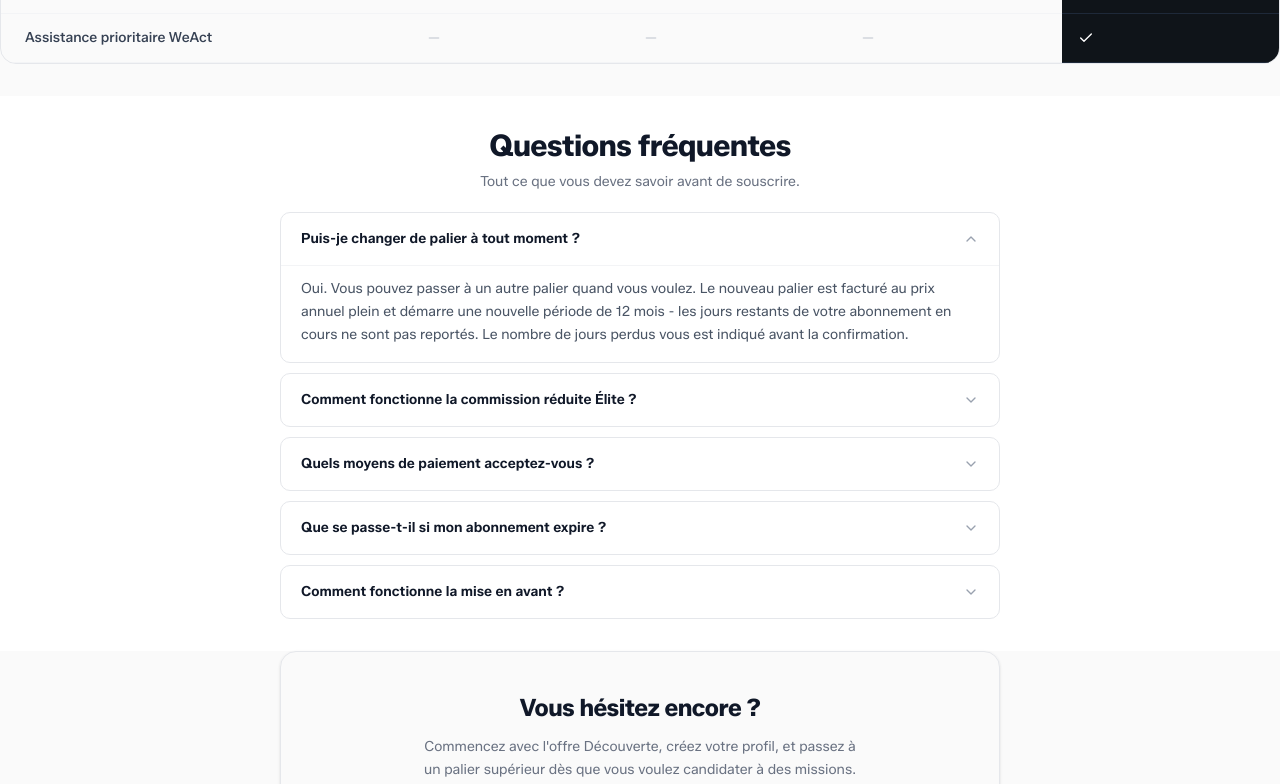
it: PricingView (public /pricing — FP-2.13) › FAQ accordion › closes any previously open FAQ when a different one is opened (exclusive accordion)
(page scrolled)
// Click FAQ #1 — FAQ #0 must auto-close
Click the button with test id "faq-toggle-1": (469, 400) x1=281 y1=374 x2=999 y2=426
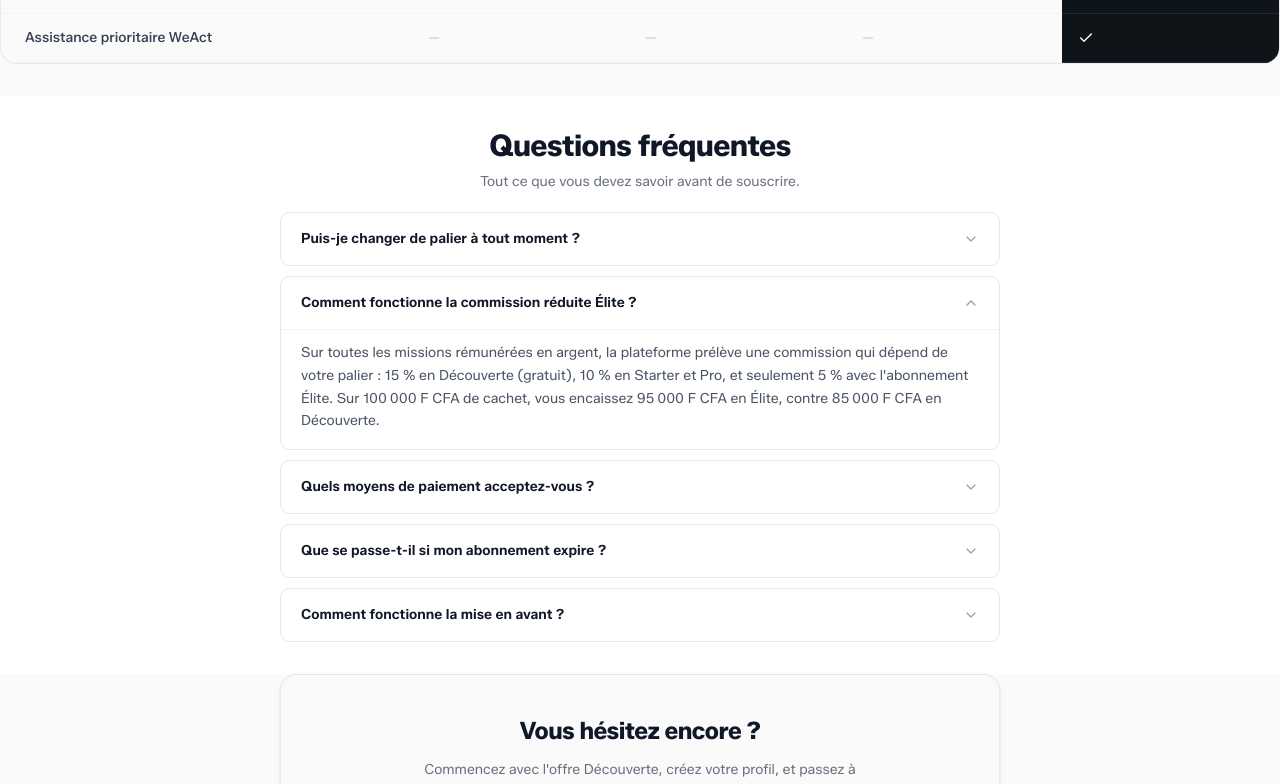
Result: the button with test id "faq-toggle-0" is collapsed at x1=281 y1=213 x2=999 y2=265
Result: the button with test id "faq-toggle-1" is expanded at x1=281 y1=277 x2=999 y2=329
// Click FAQ #2 — FAQ #1 must auto-close
Click the button with test id "faq-toggle-2": (448, 487) x1=281 y1=461 x2=999 y2=513
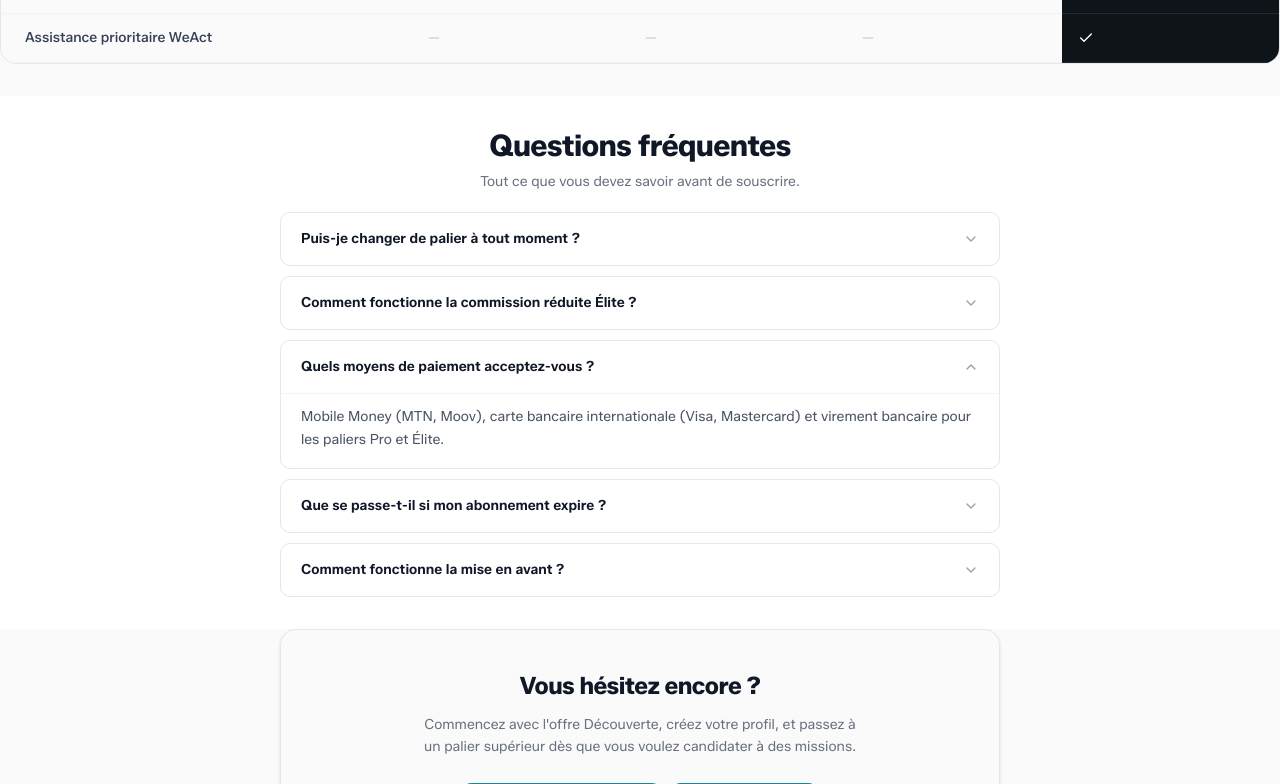
Result: the button with test id "faq-toggle-1" is collapsed at x1=281 y1=277 x2=999 y2=329
Result: the button with test id "faq-toggle-2" is expanded at x1=281 y1=341 x2=999 y2=393
